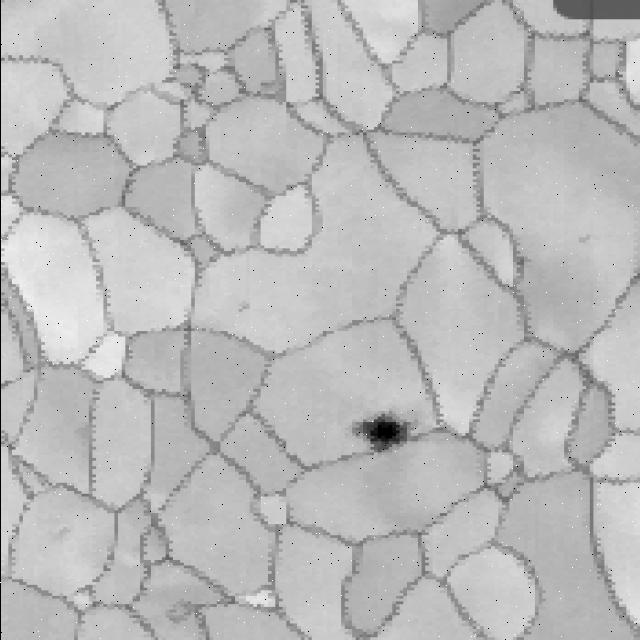good_void: (346, 407, 429, 464), (162, 593, 203, 631), (228, 294, 257, 319), (570, 229, 598, 251), (253, 78, 280, 96)
